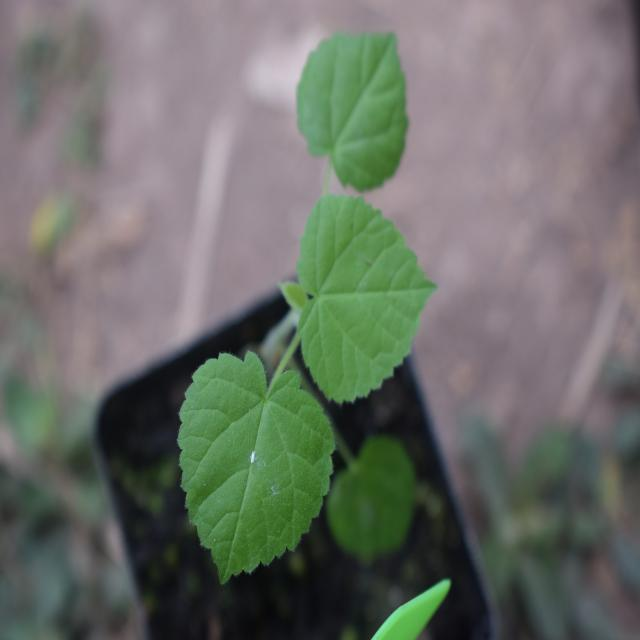abutilon theophrasti: (145, 39, 466, 578)
